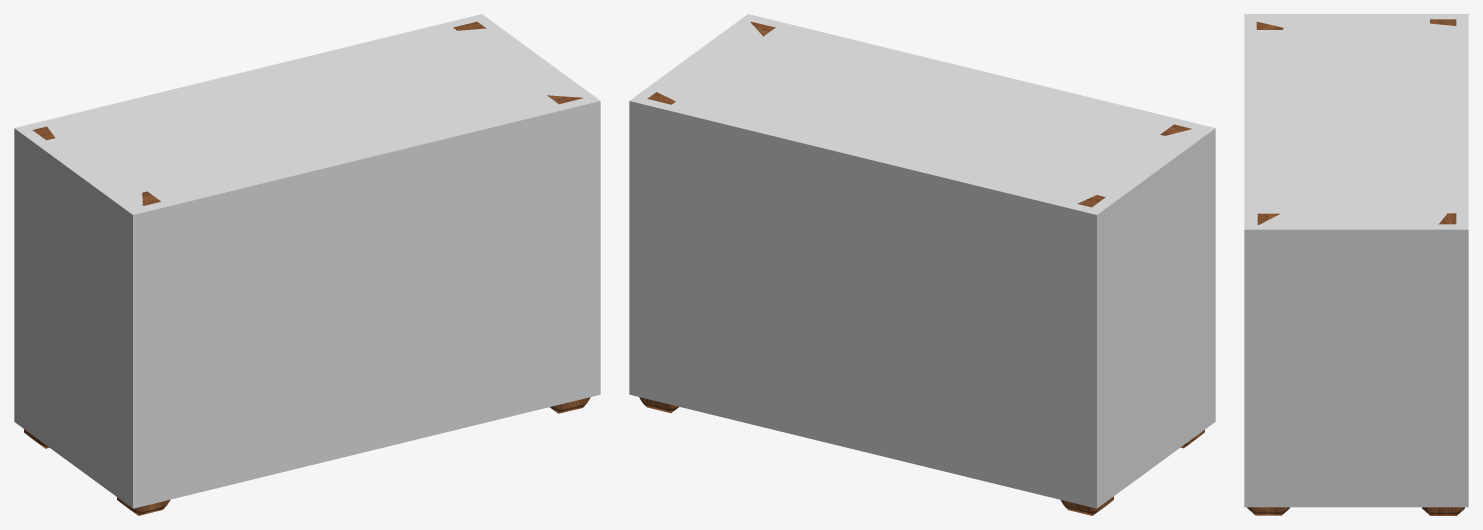
The model's file is SM_HayRack.fbx.
The picture shows the model from 3 angles, left to right: view 1: azimuth 30°, elevation 25°; view 2: azimuth 150°, elevation 25°; view 3: azimuth 270°, elevation 25°; orthographic projection. The views are drawn at different scales.
Parts seen in each view (by area): view 1: HayRack_Col0, HayRack_Body; view 2: HayRack_Col0, HayRack_Body; view 3: HayRack_Col0, HayRack_Body.
Boxes of the visible parts, bbox=[...] form: HayRack_Col0: bbox=[14, 14, 600, 508]; HayRack_Body: bbox=[24, 21, 590, 515]; HayRack_Col0: bbox=[629, 14, 1215, 508]; HayRack_Body: bbox=[639, 21, 1204, 515]; HayRack_Col0: bbox=[1244, 14, 1468, 507]; HayRack_Body: bbox=[1247, 19, 1464, 515].
Size of the model in its own units: 5 by 3.15 by 2.2.
